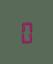zero: (19, 20, 32, 43)
